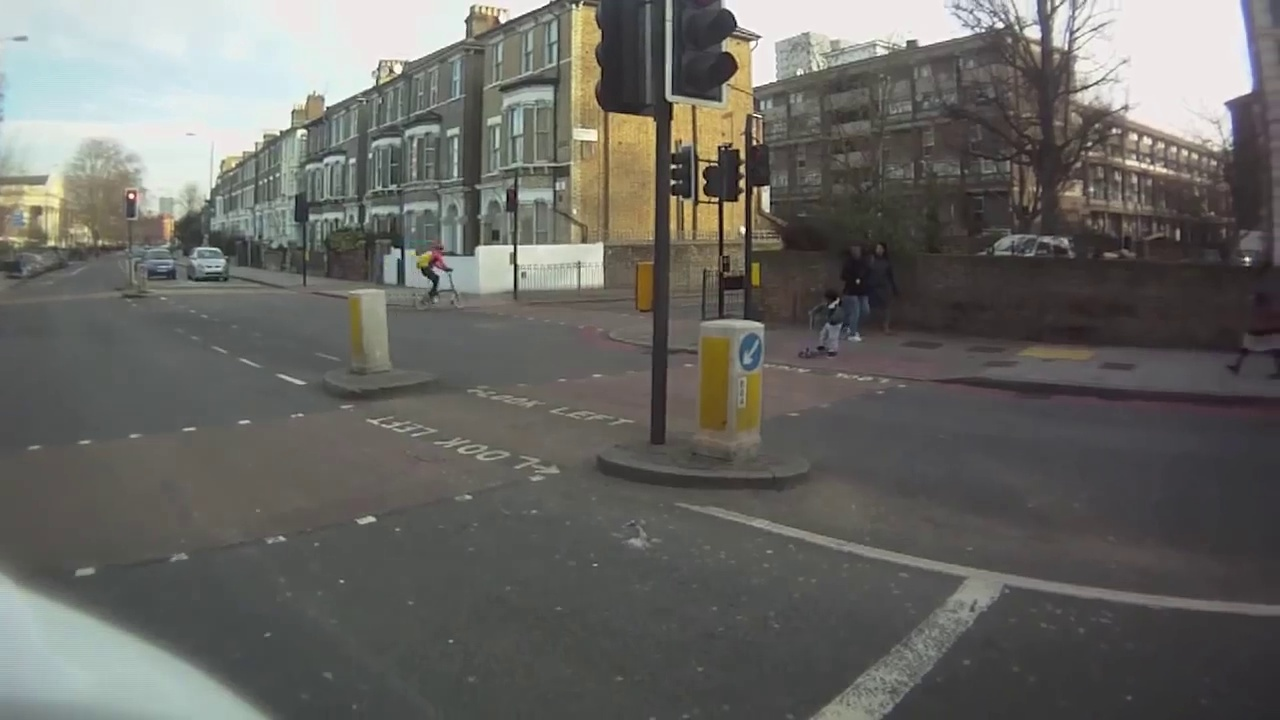cyclist_side: (409, 235, 469, 318)
